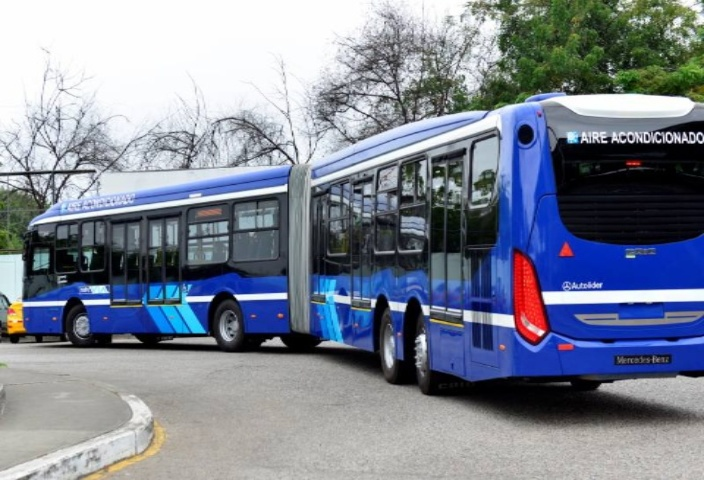bus: (7, 95, 704, 403)
